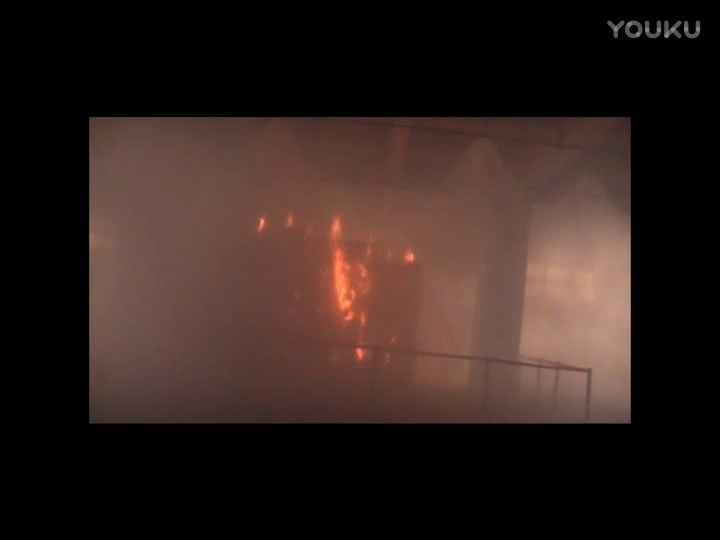fire: (327, 221, 365, 327)
